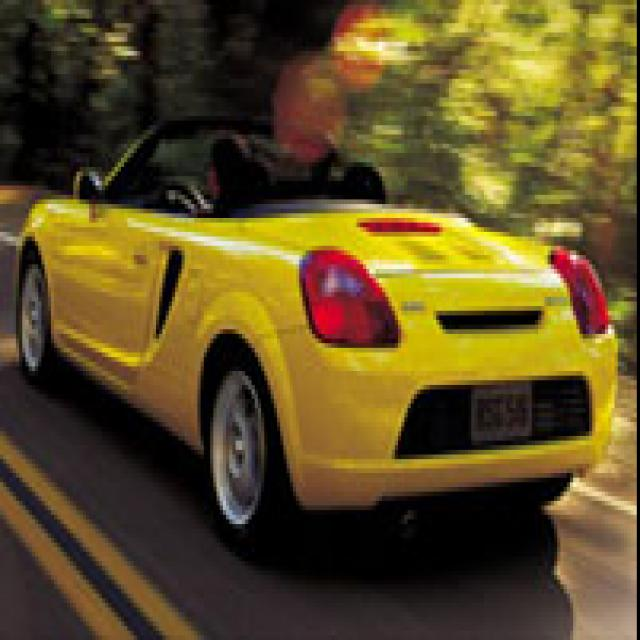Car: (11, 112, 622, 555)
